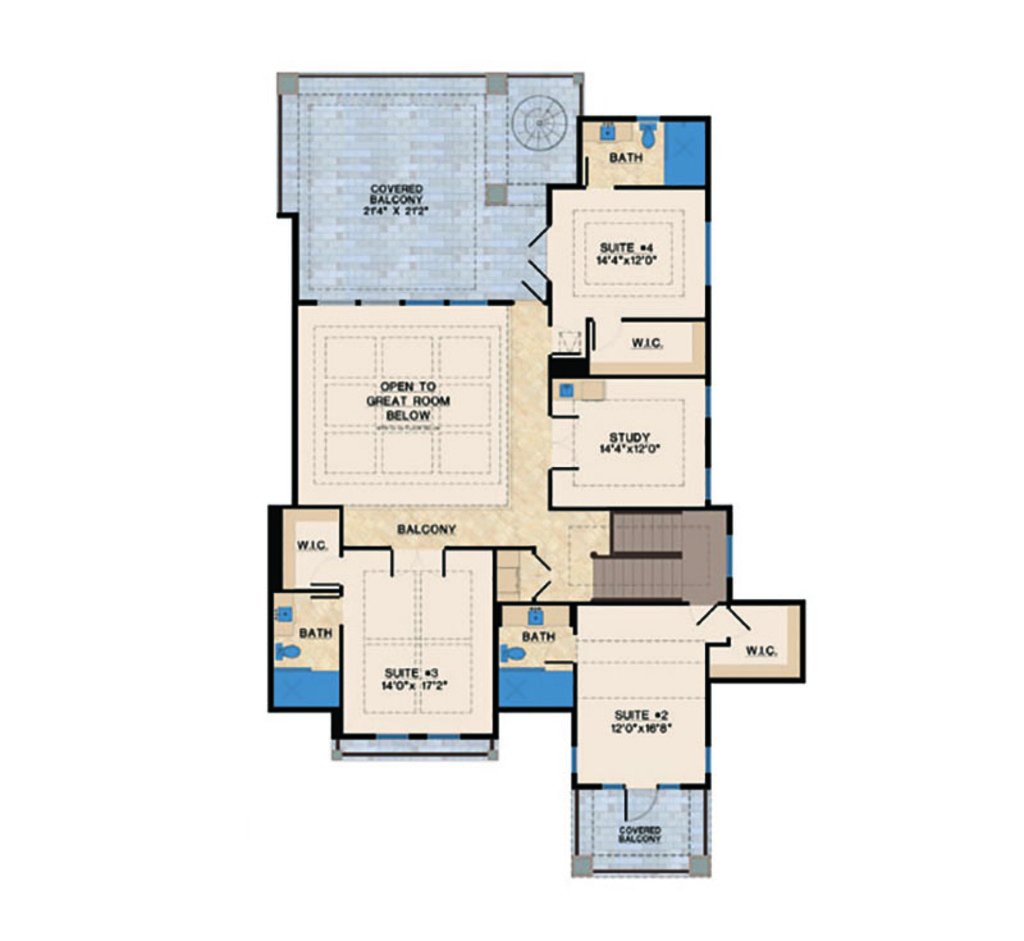bedroom has a private bathroom with sink , tub and walk in closets: (498, 605, 810, 879), (271, 511, 501, 761), (540, 115, 711, 383)
